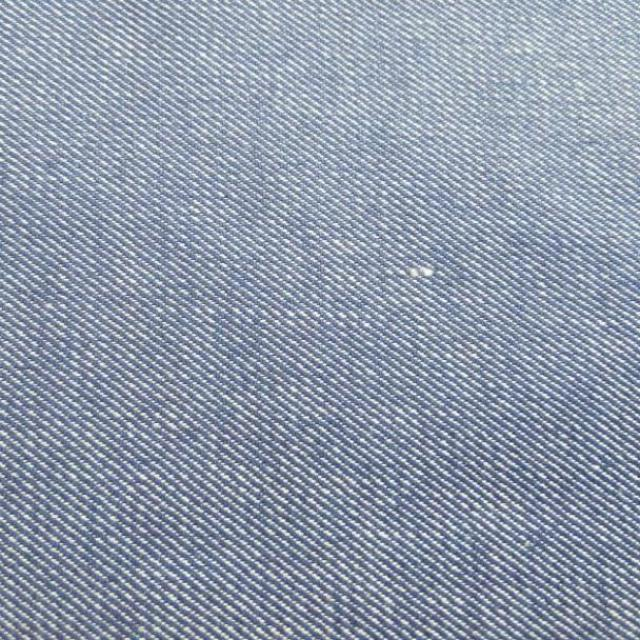Knot: (405, 265, 435, 278)
